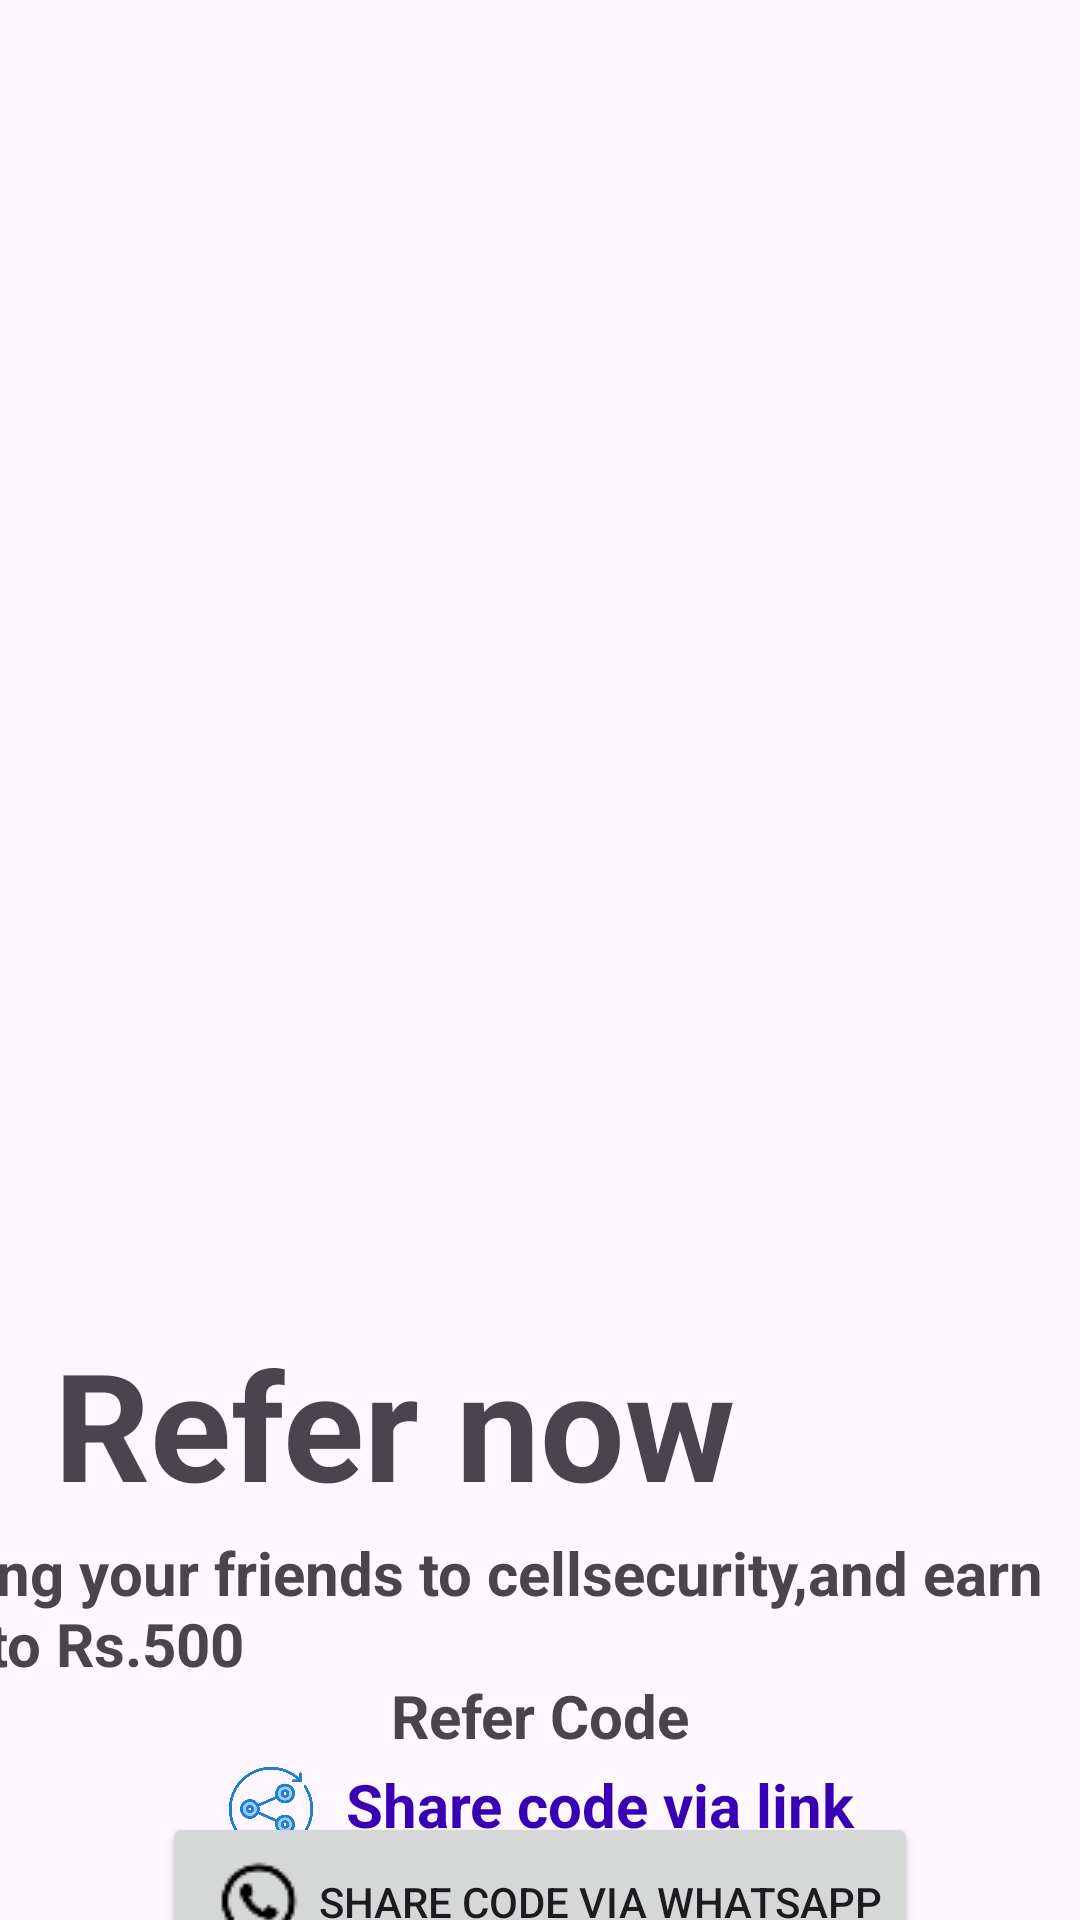

Point at icon controls on the screen. Image size 1080*1920, points as point (x, y).
sharing: point (271, 1810)
